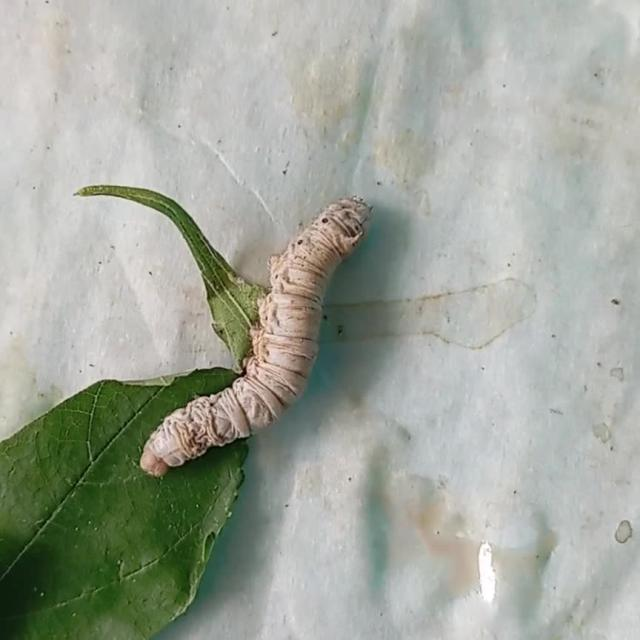Grasserie: (128, 188, 392, 478)
